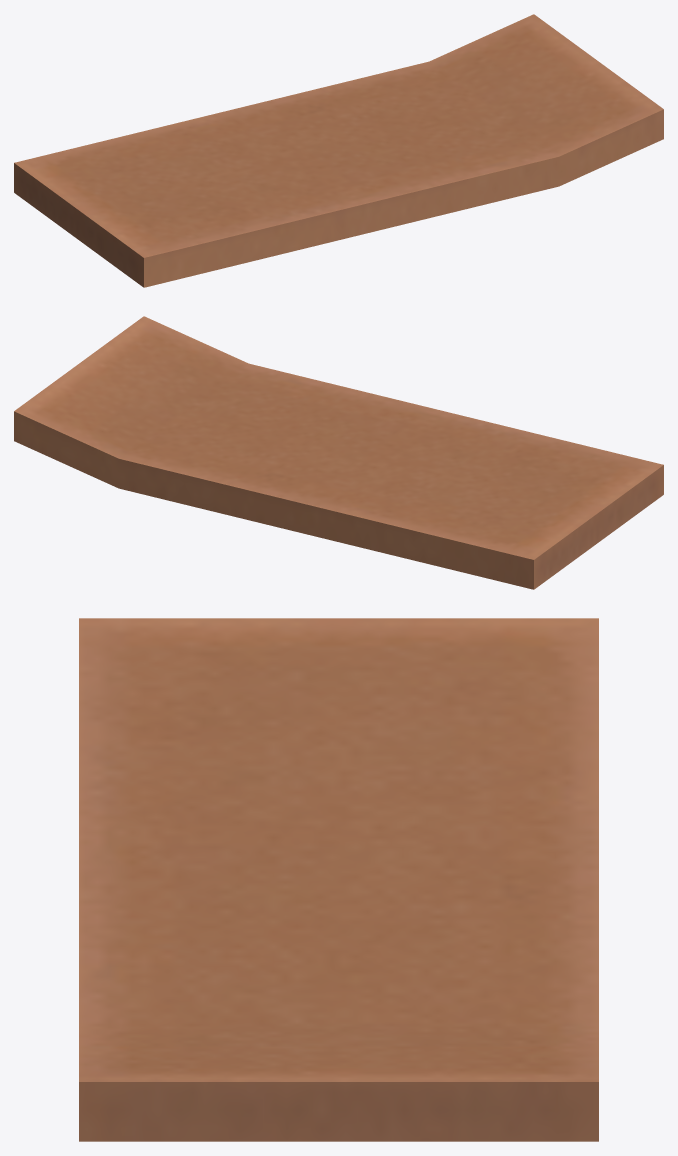
Rendered from SM_PaperBox__8.fbx.
The picture shows the model from 3 angles, top to bottom: view 1: azimuth 30°, elevation 25°; view 2: azimuth 150°, elevation 25°; view 3: azimuth 270°, elevation 25°; orthographic projection. The views are drawn at different scales.
Parts seen in each view (by area): view 1: Mat_PaperBox_02; view 2: Mat_PaperBox_02; view 3: Mat_PaperBox_02.
Part boxes in pixels (<box>): Mat_PaperBox_02: <box>14,14,663,287</box>; Mat_PaperBox_02: <box>14,316,663,589</box>; Mat_PaperBox_02: <box>79,618,598,1141</box>.
Size of the model in its own units: 0.803 by 0.0763 by 0.3477.
Materials: 1 (1 with a texture image).
